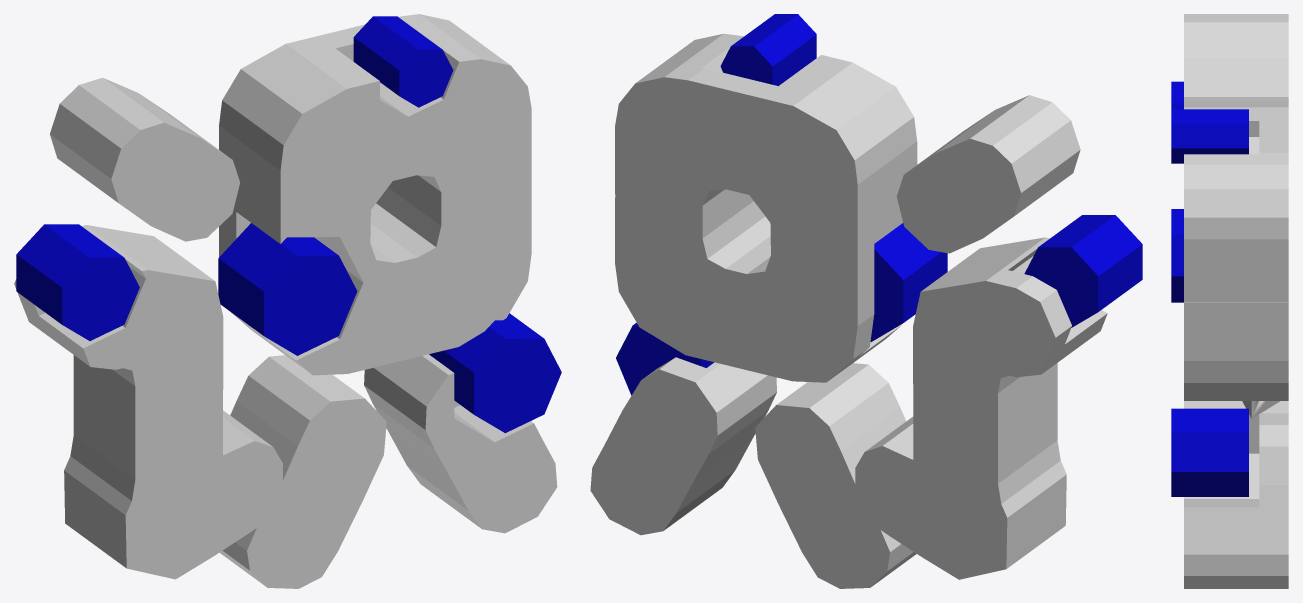
The model's file is Ch_Lite_China_识_01.fbx.
3 renders of one model, left to right at view 1: azimuth 30°, elevation 25°; view 2: azimuth 150°, elevation 25°; view 3: azimuth 270°, elevation 25°, orthographic. The views are drawn at different scales.
Visible parts, largest first — view 1: sphere1; view 2: sphere1; view 3: sphere1.
Part boxes in pixels (left/top/right/bottom): sphere1: left=14, top=14, right=561, bottom=588; sphere1: left=590, top=14, right=1142, bottom=588; sphere1: left=1171, top=14, right=1288, bottom=588.
Size of the model in its own units: 0.9426 by 0.927 by 0.2242.
